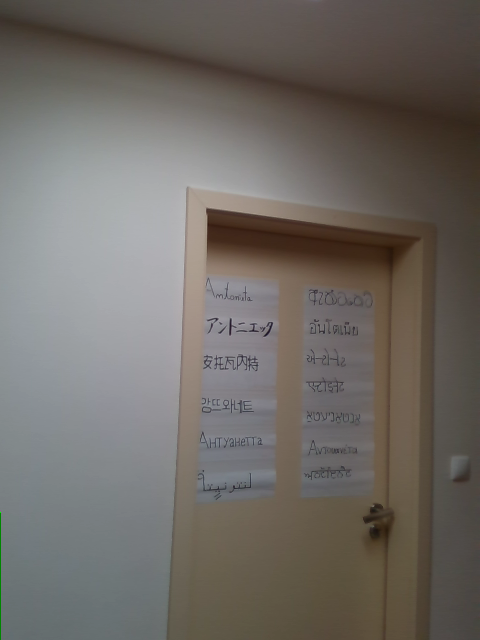closed: (166, 187, 434, 639)
